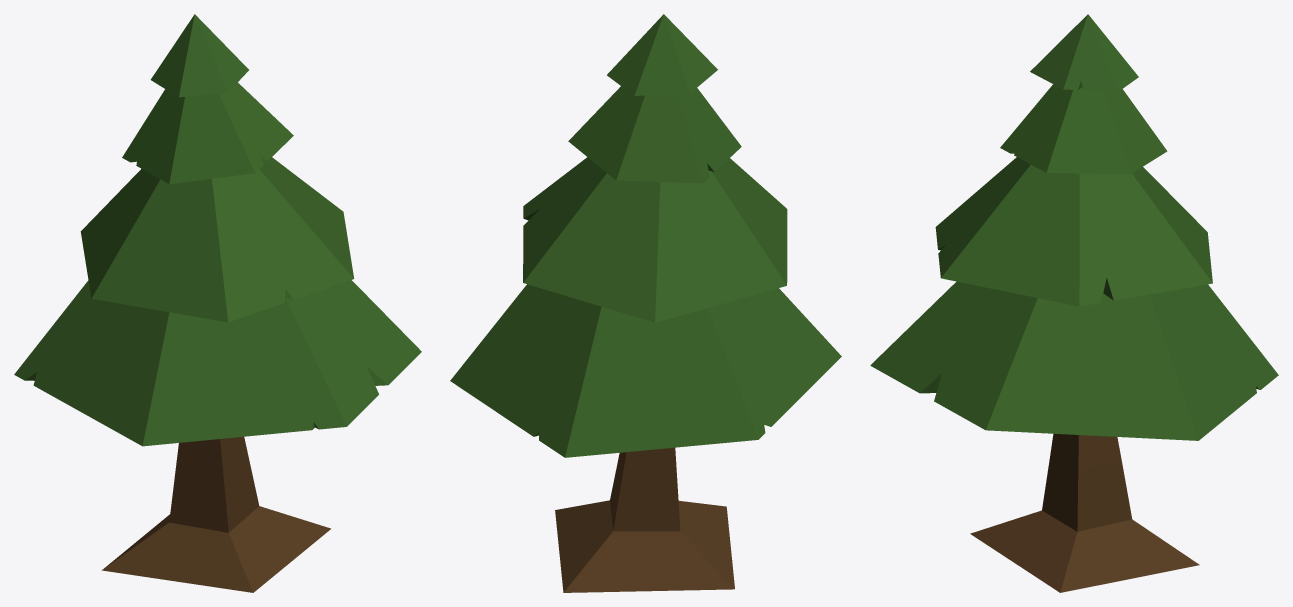
Rendered from spruce1.fbx.
The picture shows the model from 3 angles, left to right: view 1: azimuth 30°, elevation 25°; view 2: azimuth 150°, elevation 25°; view 3: azimuth 270°, elevation 25°; orthographic projection. The views are drawn at different scales.
Visible parts, largest first — view 1: Cone.003, Cone.002, Cube.002, Cone.001, Cone; view 2: Cone.003, Cone.002, Cube.002, Cone.001, Cone; view 3: Cone.003, Cone.002, Cube.002, Cone.001, Cone.
Boxes of the visible parts, bbox=[...] form: Cone.003: bbox=[14, 280, 421, 446]; Cone.002: bbox=[80, 157, 354, 322]; Cube.002: bbox=[102, 436, 330, 592]; Cone.001: bbox=[122, 82, 293, 184]; Cone: bbox=[150, 14, 248, 97]; Cone.003: bbox=[450, 284, 841, 457]; Cone.002: bbox=[523, 157, 787, 322]; Cube.002: bbox=[555, 447, 734, 592]; Cone.001: bbox=[568, 86, 741, 183]; Cone: bbox=[607, 14, 717, 95]; Cone.003: bbox=[870, 281, 1278, 440]; Cone.002: bbox=[935, 157, 1212, 306]; Cube.002: bbox=[970, 433, 1199, 592]; Cone.001: bbox=[1000, 84, 1167, 174]; Cone: bbox=[1030, 14, 1138, 91].
Size of the model in its own units: 4.35 by 7.26 by 5.06.
